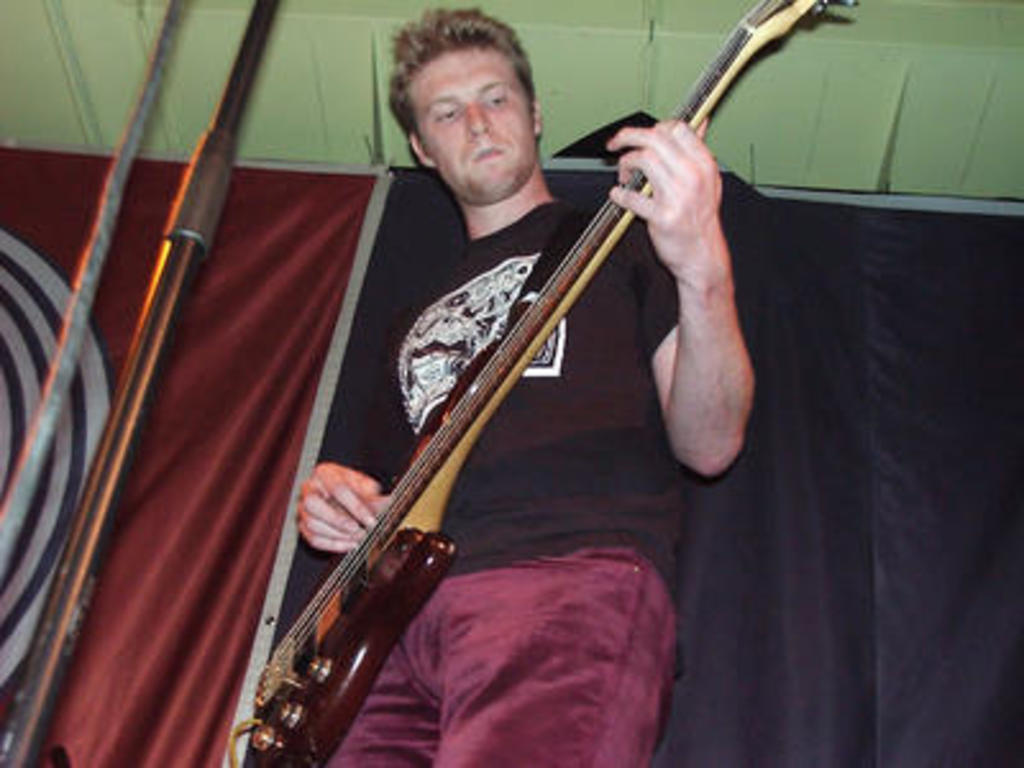Person: (295, 3, 755, 768)
